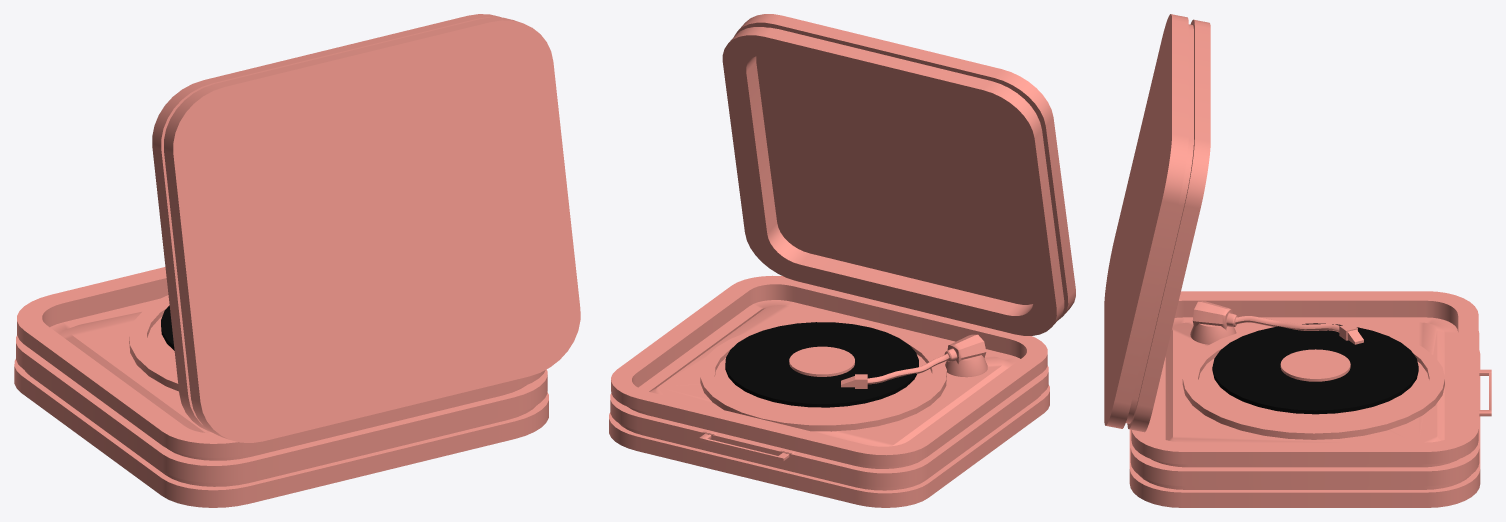
File: PLAK.fbx
3 renders of one model, left to right at view 1: azimuth 30°, elevation 25°; view 2: azimuth 150°, elevation 25°; view 3: azimuth 270°, elevation 25°, orthographic. The views are drawn at different scales.
Parts seen in each view (by area): view 1: Cube.001, Cube, Circle; view 2: Cube.001, Cube, Circle.001, Circle, Cube.002, Cylinder.001; view 3: Cube, Cube.001, Circle.001, Circle, Cube.002, Cylinder.001.
Boxes of the visible parts, x1=… form: Cube.001: x1=152, y1=14, x2=580, y2=442; Cube: x1=14, y1=267, x2=548, y2=507; Circle: x1=129, y1=295, x2=178, y2=391; Cube.001: x1=722, y1=14, x2=1075, y2=335; Cube: x1=609, y1=275, x2=1049, y2=507; Circle.001: x1=725, y1=322, x2=918, y2=407; Circle: x1=700, y1=321, x2=946, y2=431; Cube.002: x1=867, y1=334, x2=986, y2=384; Cylinder.001: x1=945, y1=355, x2=987, y2=377; Cube: x1=1129, y1=291, x2=1480, y2=507; Cube.001: x1=1104, y1=14, x2=1210, y2=432; Circle.001: x1=1212, y1=323, x2=1418, y2=414; Circle: x1=1182, y1=322, x2=1444, y2=439; Cube.002: x1=1192, y1=301, x2=1339, y2=332; Cylinder.001: x1=1190, y1=323, x2=1236, y2=344.
Bounding box in the file's own units: 200 × 201 × 202.
